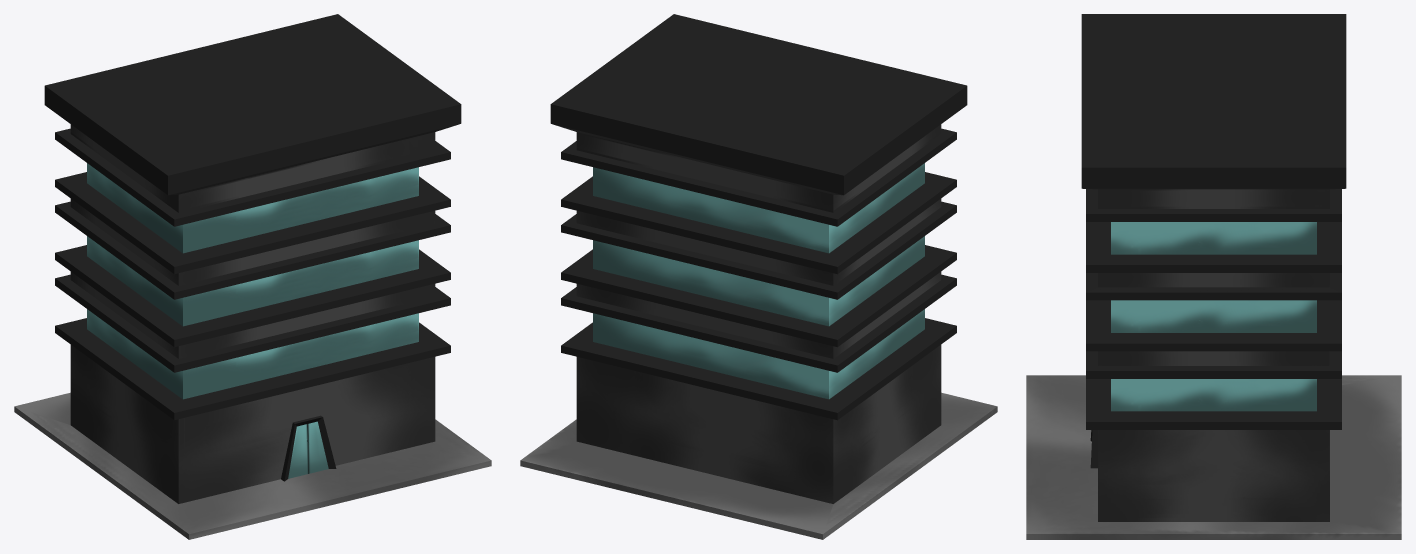
Rendered from building_4.fbx.
3 views of the same model, side by side, from view 1: azimuth 30°, elevation 25°; view 2: azimuth 150°, elevation 25°; view 3: azimuth 270°, elevation 25° (orthographic). The views are drawn at different scales.
Parts seen in each view (by area): view 1: Building4_LOD0; view 2: Building4_LOD0; view 3: Building4_LOD0.
Boxes of the visible parts, bbox=[...] form: Building4_LOD0: bbox=[14, 14, 491, 539]; Building4_LOD0: bbox=[520, 14, 997, 539]; Building4_LOD0: bbox=[1026, 14, 1401, 539].
Size of what is drawn, in the model's own units: 600 by 652 by 600.
